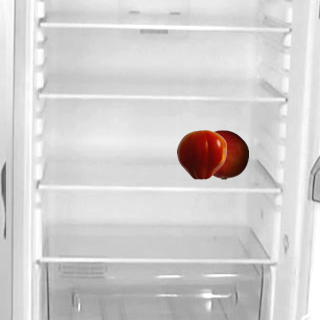Apple Braeburn: (198, 129, 248, 179)
Tomato 1: (176, 129, 226, 179)
